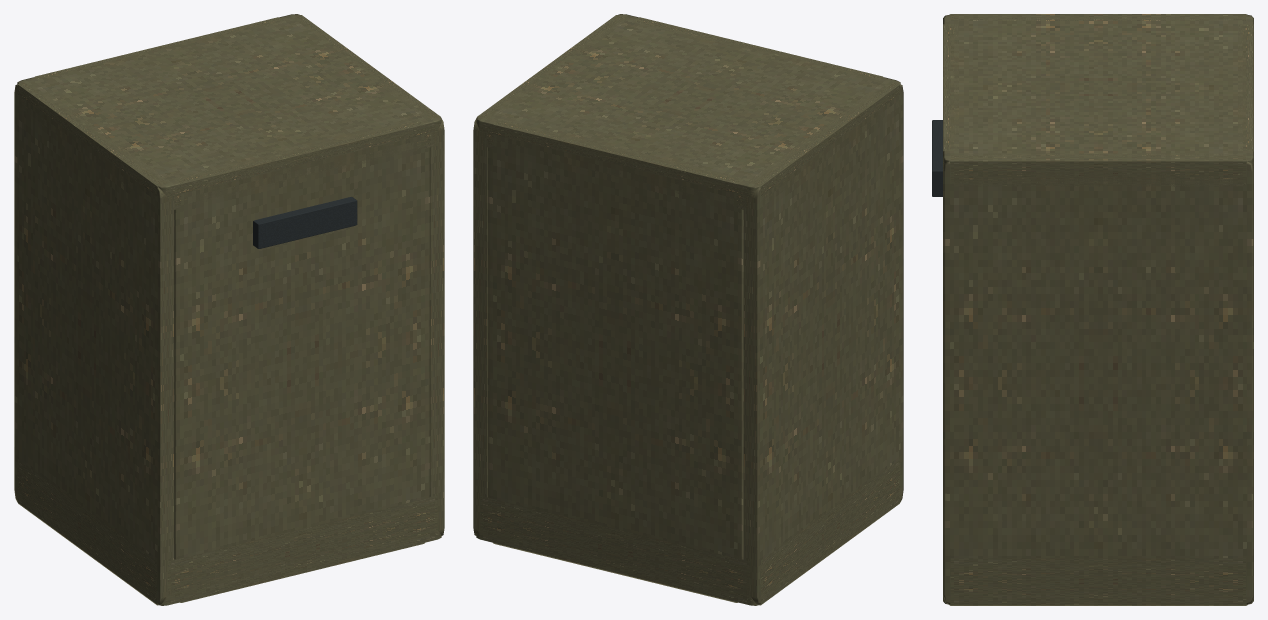
Rendered from dirty-bin.glb.
3 renders of one model, left to right at view 1: azimuth 30°, elevation 25°; view 2: azimuth 150°, elevation 25°; view 3: azimuth 270°, elevation 25°, orthographic. The views are drawn at different scales.
Parts seen in each view (by area): view 1: edge (×2), side (×2), lid, bottom, grip; view 2: edge (×2), side (×2), lid, bottom; view 3: side (×2), lid, bottom, edge (×2), grip.
Part boxes in pixels (x1,y1,x2,y2): edge (×2): (34, 17, 430, 602); side (×2): (14, 15, 444, 605); lid: (17, 14, 441, 210); bottom: (17, 459, 441, 605); grip: (253, 197, 357, 248); edge (×2): (487, 17, 883, 602); side (×2): (473, 15, 903, 605); lid: (476, 14, 900, 210); bottom: (476, 459, 900, 605); side (×2): (943, 14, 1253, 605); lid: (943, 14, 1253, 186); bottom: (943, 558, 1253, 604); edge (×2): (943, 24, 1253, 151); grip: (932, 120, 942, 196).
Bounding box in the file's own units: 0.56 × 0.79 × 0.5175.
Materials: 2 (2 with a texture image).
